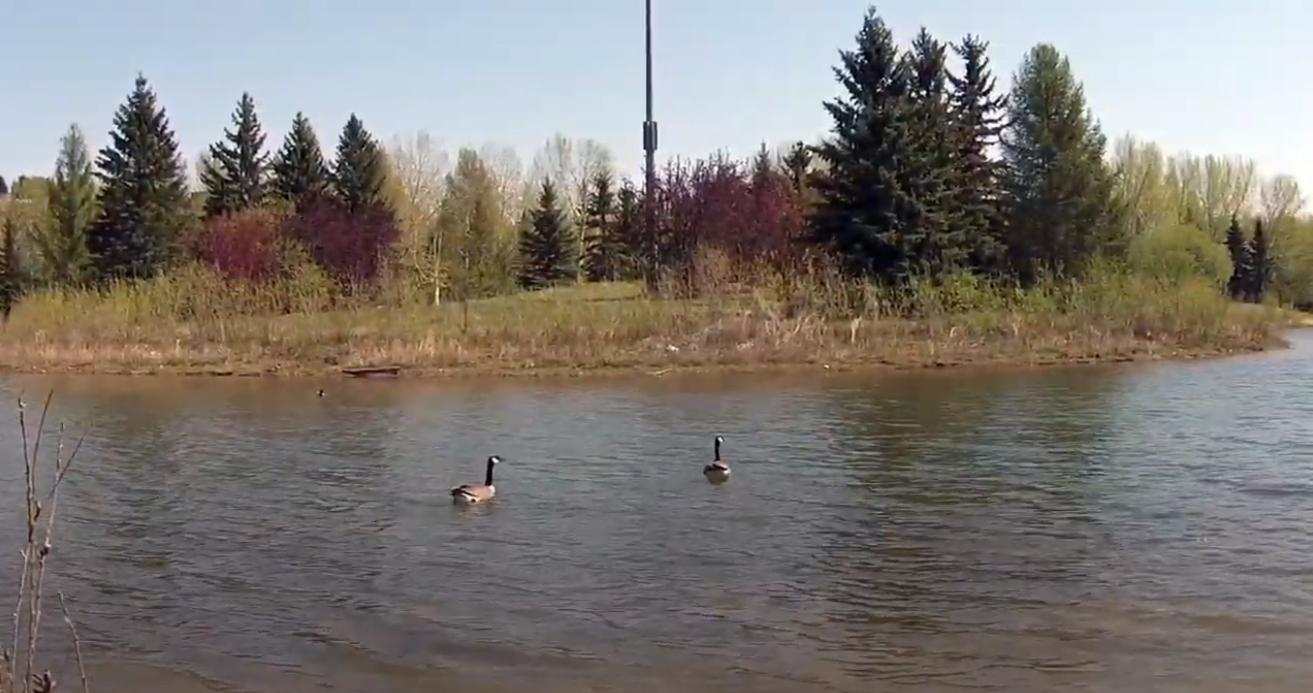goose: (448, 453, 505, 510), (702, 431, 739, 484)
